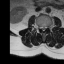CCS_normal: (42, 24, 44, 33)
LFS_stenosis: (46, 24, 48, 29)
LLS_normal: (44, 24, 46, 31)
RFS_normal: (38, 23, 40, 30)
RLS_normal: (40, 24, 42, 31)
